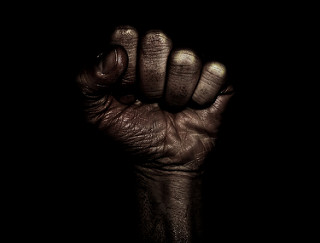fist: (88, 29, 232, 188)
